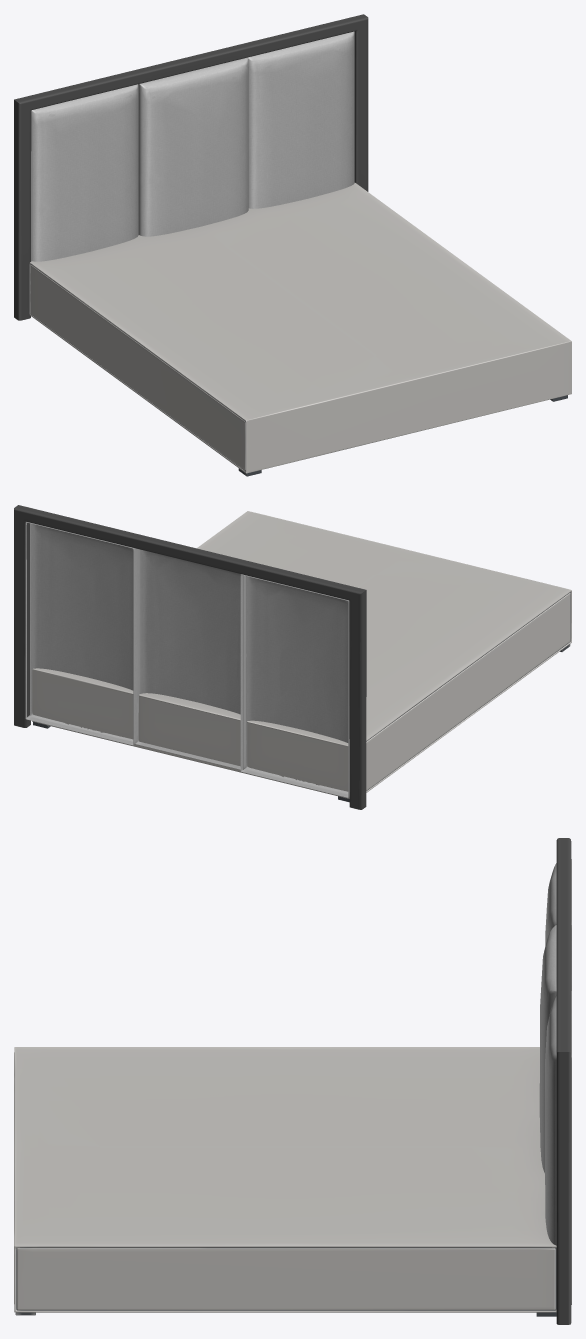
Rendered from raw_model.obj.
3 views of the same model, one above another, from view 1: azimuth 30°, elevation 25°; view 2: azimuth 150°, elevation 25°; view 3: azimuth 270°, elevation 25° (orthographic). The views are drawn at different scales.
Parts seen in each view (by area): view 1: solid_002, solid_003, solid_004; view 2: solid_002, solid_003, solid_004, solid_001; view 3: solid_002, solid_004, solid_003, solid_001.
Part boxes in pixels (x1,y1,x2,y2): solid_002: [29, 183, 571, 473]; solid_003: [31, 31, 354, 261]; solid_004: [14, 14, 368, 320]; solid_002: [32, 511, 571, 798]; solid_003: [25, 522, 349, 797]; solid_004: [14, 505, 366, 809]; solid_001: [33, 592, 570, 802]; solid_002: [14, 1047, 556, 1312]; solid_004: [556, 838, 571, 1324]; solid_003: [539, 859, 571, 1304]; solid_001: [15, 1247, 556, 1316].
Bounding box in the file's own units: 1.79 × 1.07 × 1.97.
Materials: 1 (1 with a texture image).
